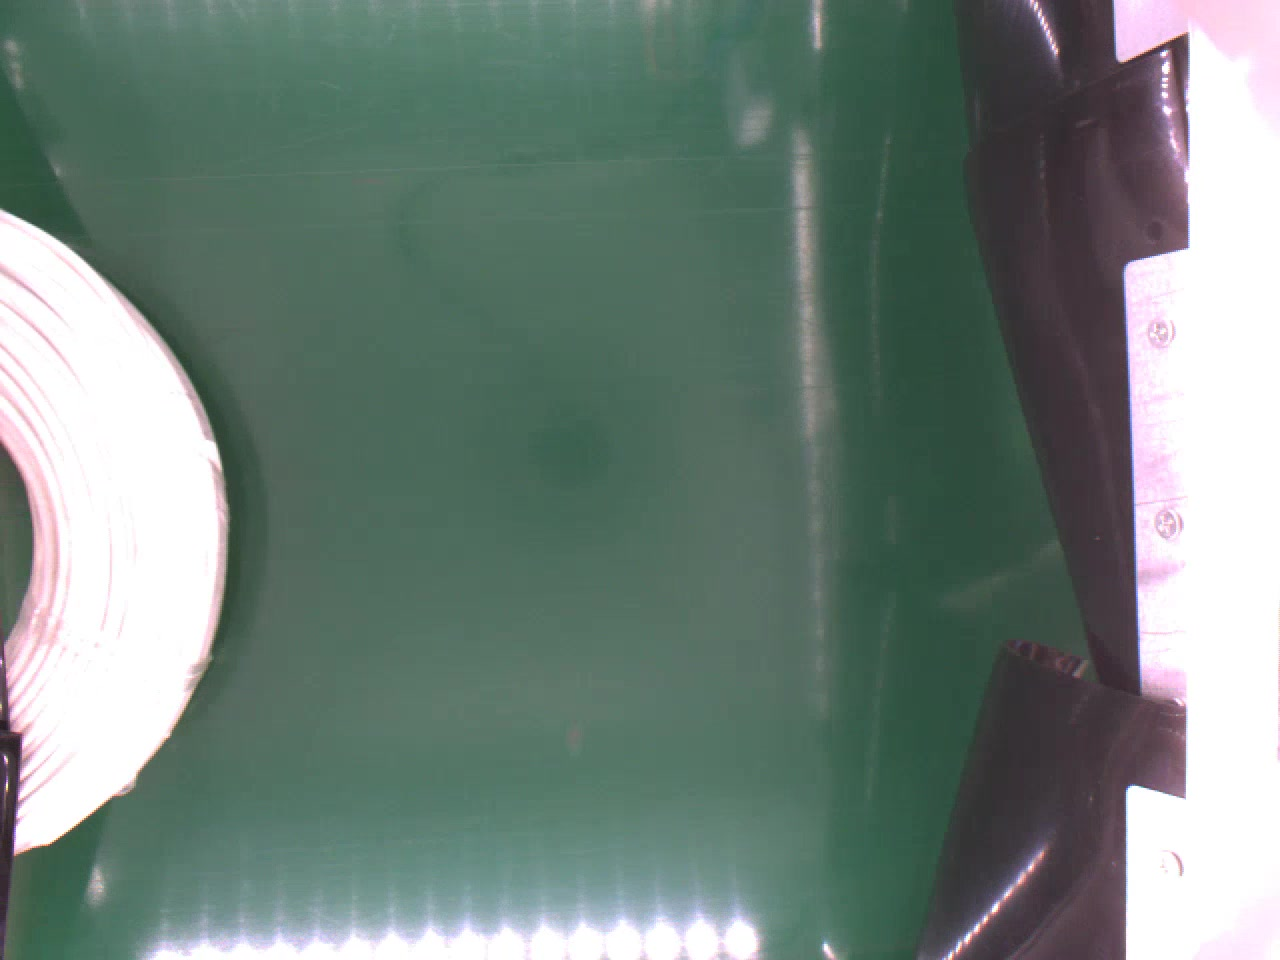white: (0, 213, 228, 862)
